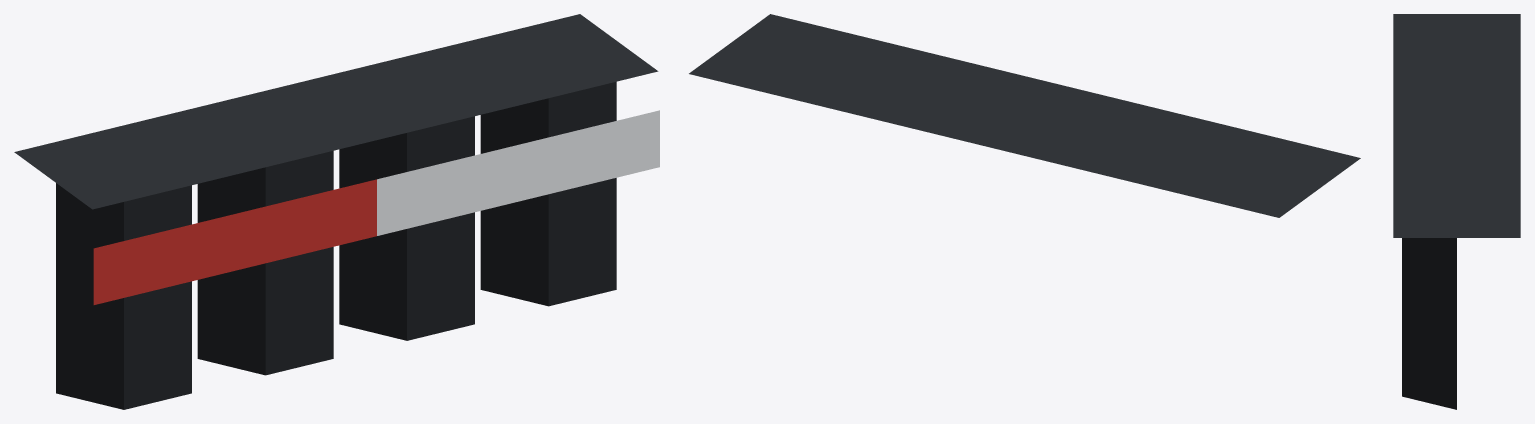
Rendered from tyre-wall.glb.
3 renders of one model, left to right at view 1: azimuth 30°, elevation 25°; view 2: azimuth 150°, elevation 25°; view 3: azimuth 270°, elevation 25°, orthographic. The views are drawn at different scales.
Visible parts, largest first — view 1: tyreWall; view 2: tyreWall; view 3: tyreWall.
Boxes of the visible parts, x1,y1,x2,y2 form: tyreWall: [14, 14, 659, 409]; tyreWall: [689, 14, 1360, 217]; tyreWall: [1393, 14, 1520, 409].
Bounding box in the file's own units: 2.5 × 0.9 × 0.61.
